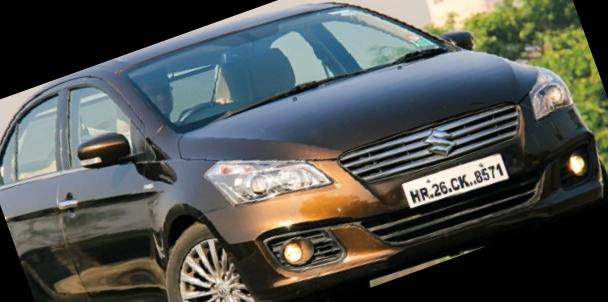plate: (384, 133, 525, 232)
